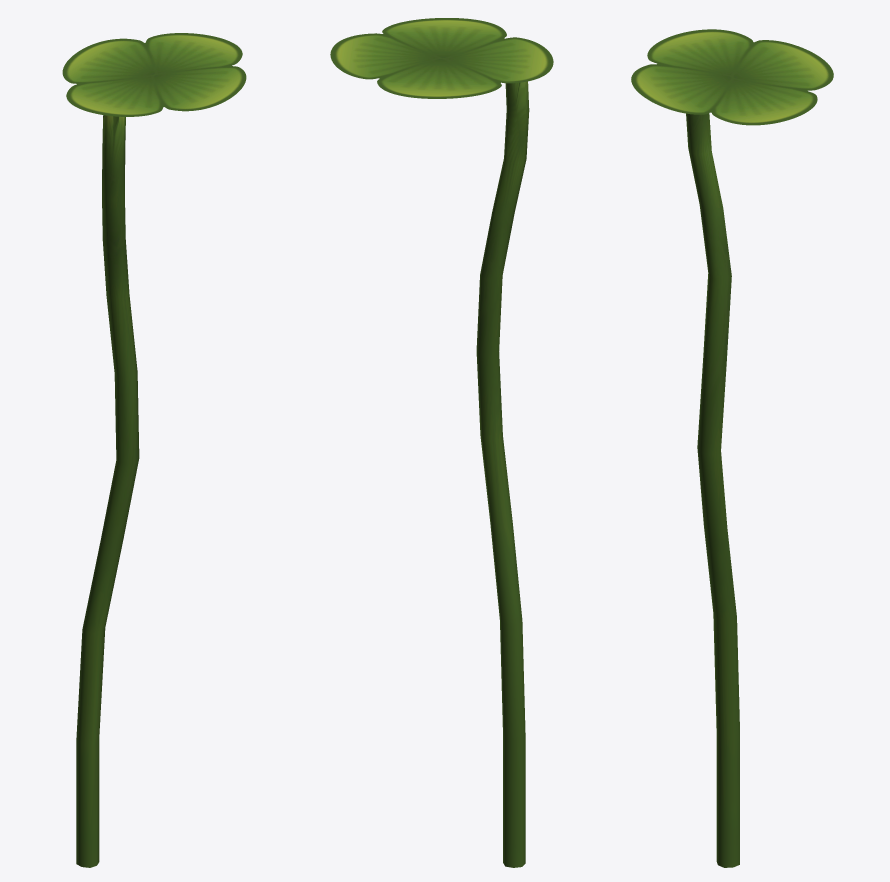
Rendered from LillypadBob.fbx.
3 renders of one model, left to right at view 1: azimuth 30°, elevation 25°; view 2: azimuth 150°, elevation 25°; view 3: azimuth 270°, elevation 25°, orthographic. The views are drawn at different scales.
Parts seen in each view (by area): view 1: LillypadBase (1), RoofTile; view 2: LillypadBase (1), RoofTile; view 3: LillypadBase (1), RoofTile.
Boxes of the visible parts, left/top/right/bottom form: LillypadBase (1): left=76, top=115, right=139, bottom=867; RoofTile: left=62, top=33, right=246, bottom=116; LillypadBase (1): left=476, top=81, right=529, bottom=867; RoofTile: left=330, top=18, right=553, bottom=98; LillypadBase (1): left=686, top=113, right=739, bottom=867; RoofTile: left=631, top=29, right=833, bottom=125.
Size of the model in its own units: 1.03 by 3.11 by 0.9838.
